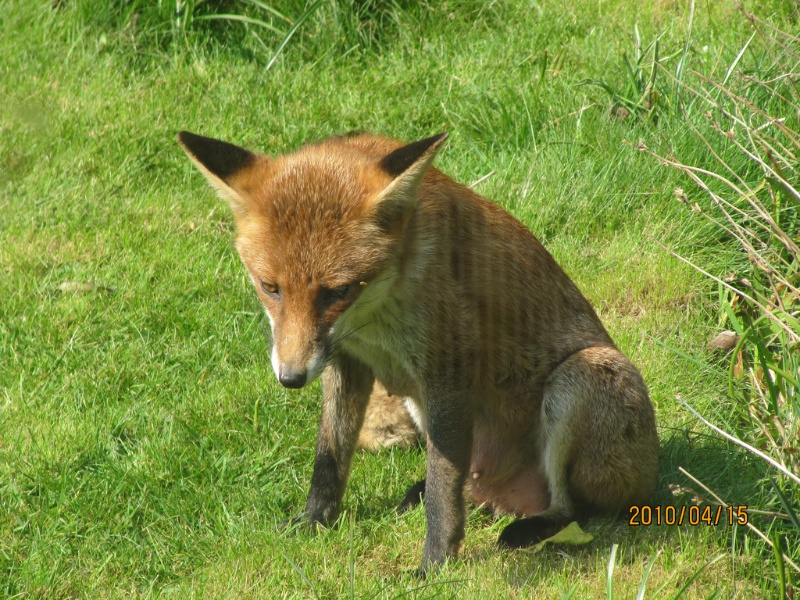fox: (166, 110, 674, 584)
